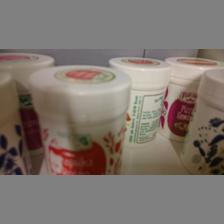Gewuerze: (27, 64, 129, 174), (110, 57, 170, 145), (177, 67, 223, 173)
